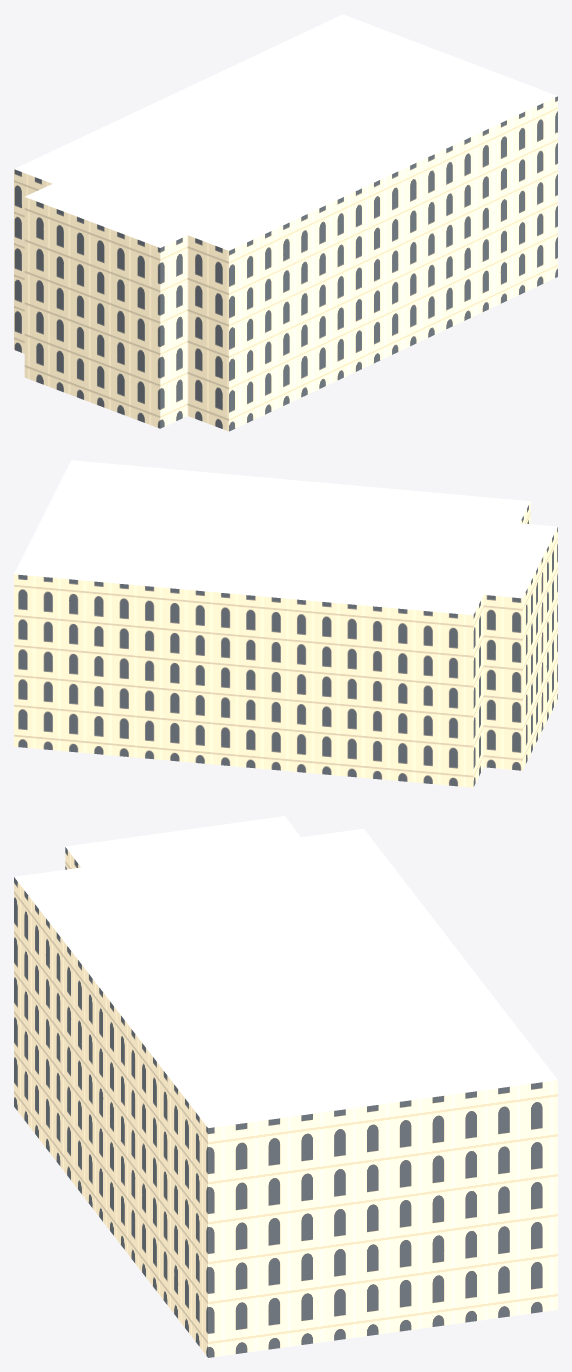
The model's file is landmark-national-drama-theatre.glb.
3 renders of one model, top to bottom at view 1: azimuth 30°, elevation 25°; view 2: azimuth 150°, elevation 25°; view 3: azimuth 270°, elevation 25°, orthographic. The views are drawn at different scales.
Visible parts, largest first — view 1: national-drama-theatre; view 2: national-drama-theatre; view 3: national-drama-theatre.
Boxes of the visible parts, bbox=[...] form: national-drama-theatre: bbox=[14, 14, 557, 431]; national-drama-theatre: bbox=[14, 460, 557, 787]; national-drama-theatre: bbox=[14, 816, 557, 1357].
Size of the model in its own units: 77.09 by 26.46 by 56.77.
2 materials, 1 textured.
